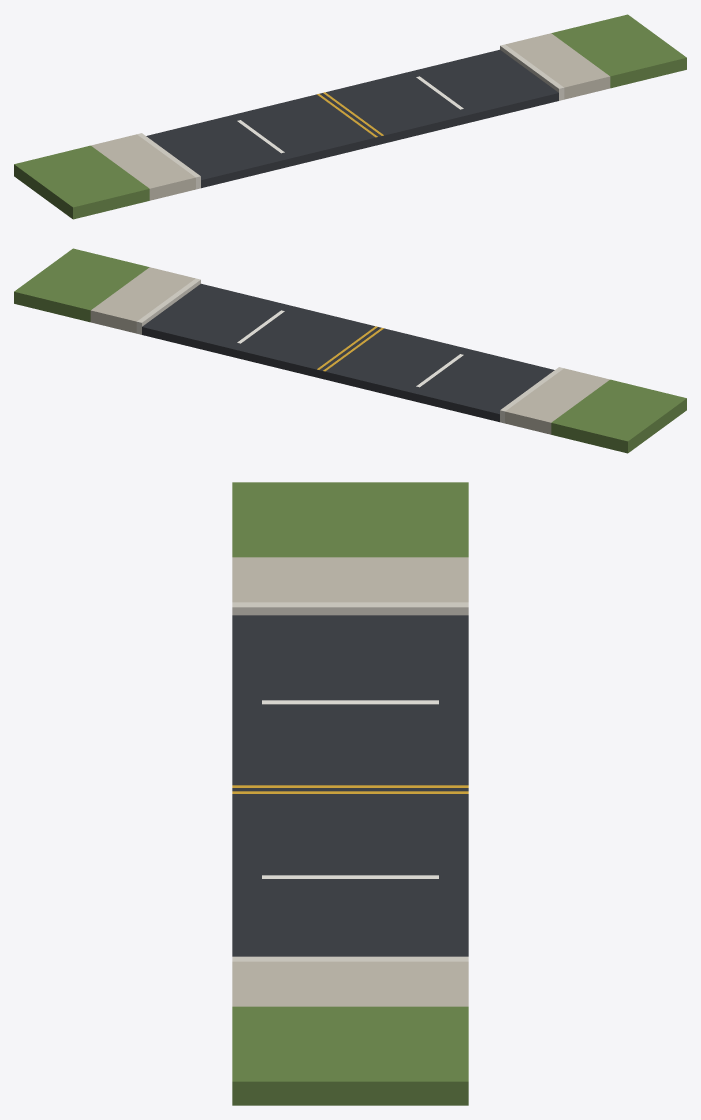
Rendered from Road_4Lane_Sidewalk_Straight_4m.glb.
3 views of the same model, one above another, from view 1: azimuth 30°, elevation 25°; view 2: azimuth 150°, elevation 25°; view 3: azimuth 270°, elevation 25° (orthographic). The views are drawn at different scales.
Visible parts, largest first — view 1: Road_4Lane_Sidewalk_Straight_4m_Asphalt, Road_4Lane_Sidewalk_Straight_4m_Grass-edge, Road_4Lane_Sidewalk_Straight_4m_Sidewalk, Road_4Lane_Sidewalk_Straight_4m_Curb, Road_4Lane_Sidewalk_Straight_4m_PaintWhite, Road_4Lane_Sidewalk_Straight_4m_PaintYellow; view 2: Road_4Lane_Sidewalk_Straight_4m_Asphalt, Road_4Lane_Sidewalk_Straight_4m_Grass-edge, Road_4Lane_Sidewalk_Straight_4m_Sidewalk, Road_4Lane_Sidewalk_Straight_4m_Curb, Road_4Lane_Sidewalk_Straight_4m_PaintWhite, Road_4Lane_Sidewalk_Straight_4m_PaintYellow; view 3: Road_4Lane_Sidewalk_Straight_4m_Asphalt, Road_4Lane_Sidewalk_Straight_4m_Grass-edge, Road_4Lane_Sidewalk_Straight_4m_Sidewalk, Road_4Lane_Sidewalk_Straight_4m_Curb, Road_4Lane_Sidewalk_Straight_4m_PaintWhite, Road_4Lane_Sidewalk_Straight_4m_PaintYellow.
Boxes of the visible parts, x1,y1,x2,y2 form: Road_4Lane_Sidewalk_Straight_4m_Asphalt: [146, 49, 558, 188]; Road_4Lane_Sidewalk_Straight_4m_Grass-edge: [14, 14, 686, 219]; Road_4Lane_Sidewalk_Straight_4m_Sidewalk: [91, 33, 610, 200]; Road_4Lane_Sidewalk_Straight_4m_Curb: [137, 44, 564, 189]; Road_4Lane_Sidewalk_Straight_4m_PaintWhite: [237, 76, 463, 153]; Road_4Lane_Sidewalk_Straight_4m_PaintYellow: [317, 92, 383, 137]; Road_4Lane_Sidewalk_Straight_4m_Asphalt: [142, 283, 554, 422]; Road_4Lane_Sidewalk_Straight_4m_Grass-edge: [14, 248, 686, 453]; Road_4Lane_Sidewalk_Straight_4m_Sidewalk: [90, 267, 609, 434]; Road_4Lane_Sidewalk_Straight_4m_Curb: [136, 278, 563, 423]; Road_4Lane_Sidewalk_Straight_4m_PaintWhite: [237, 310, 463, 387]; Road_4Lane_Sidewalk_Straight_4m_PaintYellow: [317, 326, 383, 371]; Road_4Lane_Sidewalk_Straight_4m_Asphalt: [232, 615, 468, 956]; Road_4Lane_Sidewalk_Straight_4m_Grass-edge: [232, 482, 468, 1105]; Road_4Lane_Sidewalk_Straight_4m_Sidewalk: [232, 557, 468, 1006]; Road_4Lane_Sidewalk_Straight_4m_Curb: [232, 602, 468, 961]; Road_4Lane_Sidewalk_Straight_4m_PaintWhite: [262, 700, 438, 878]; Road_4Lane_Sidewalk_Straight_4m_PaintYellow: [232, 785, 468, 793].
Bounding box in the file's own units: 24 × 0.45 × 4.
